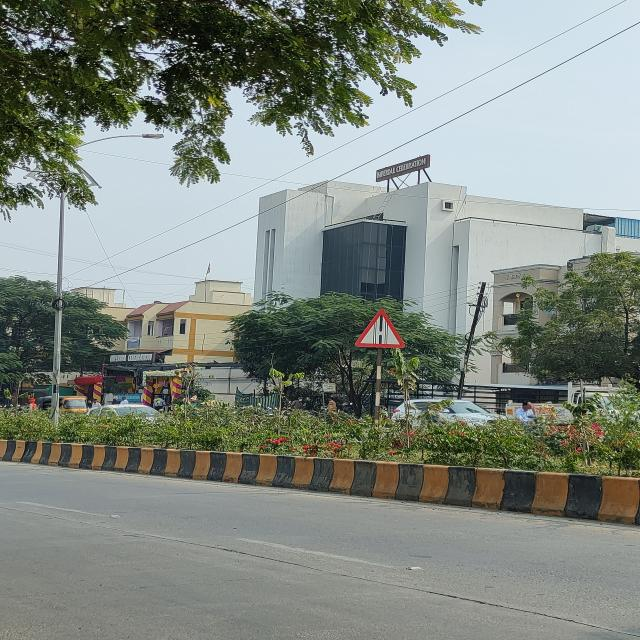ferry: (354, 308, 404, 348)
